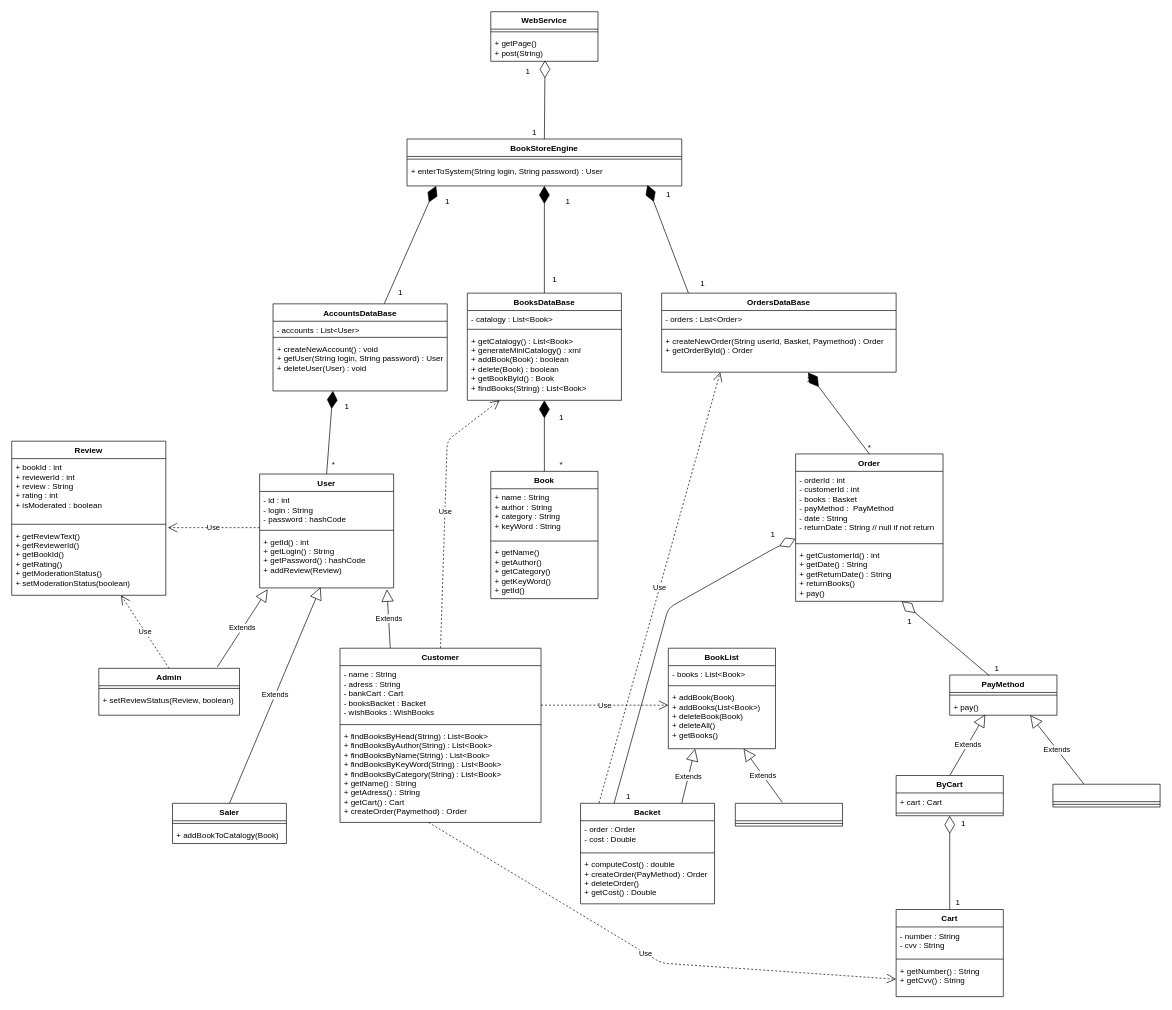
The diagram is 1172 pixels wide and 1010 high, and some of its shapes have lost their labels. Here are the shapes that lost their labels. From the top down, the centre of each, then its label:
point (789, 814): WishBooks
point (1106, 795): ByBill
